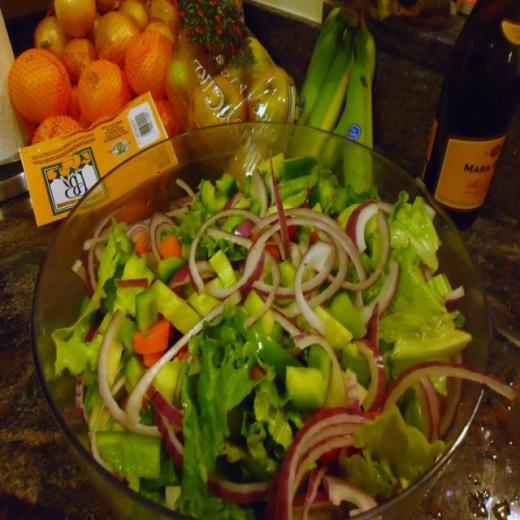Grape: (9, 46, 70, 114), (65, 56, 117, 116), (127, 32, 159, 92), (95, 7, 128, 65), (49, 0, 95, 33), (66, 38, 92, 81), (32, 17, 66, 47), (119, 0, 143, 28), (148, 0, 170, 24)
